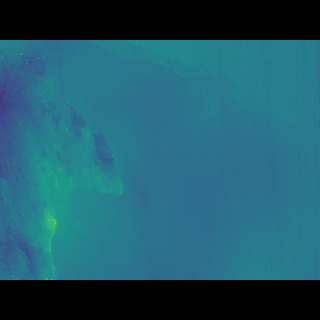Loch: (0, 72, 130, 249)
